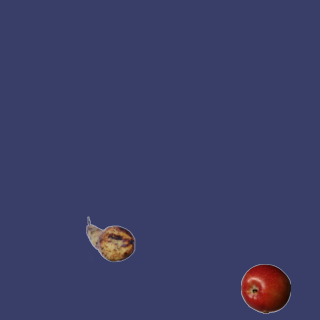Apple Braeburn: (240, 263, 290, 313)
Pear Abate: (85, 214, 135, 264)
